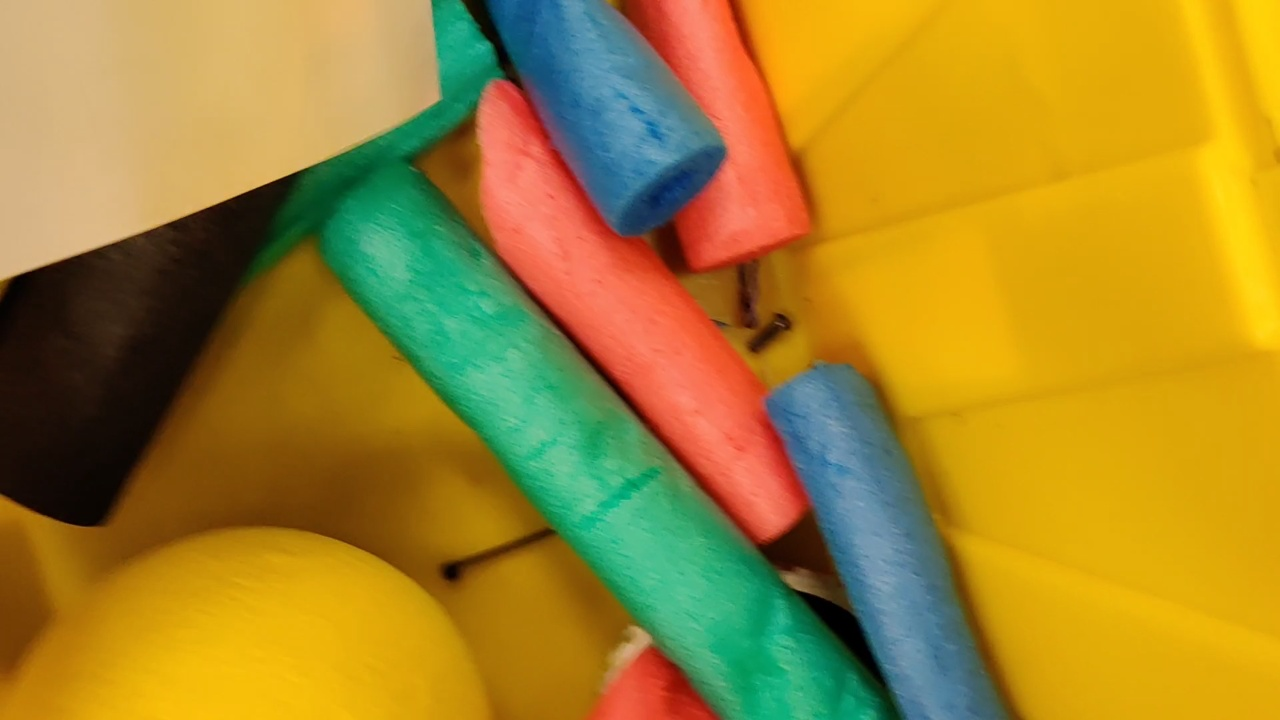Ball: (1, 525, 494, 718)
